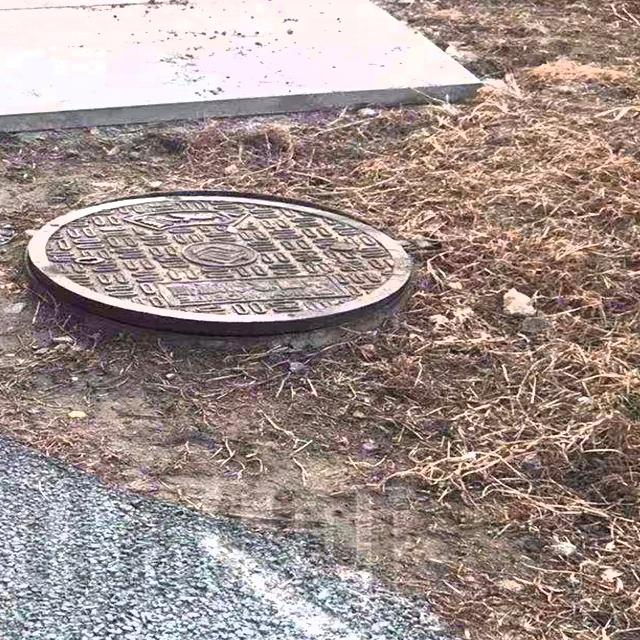uncovered: (1, 143, 419, 346)
